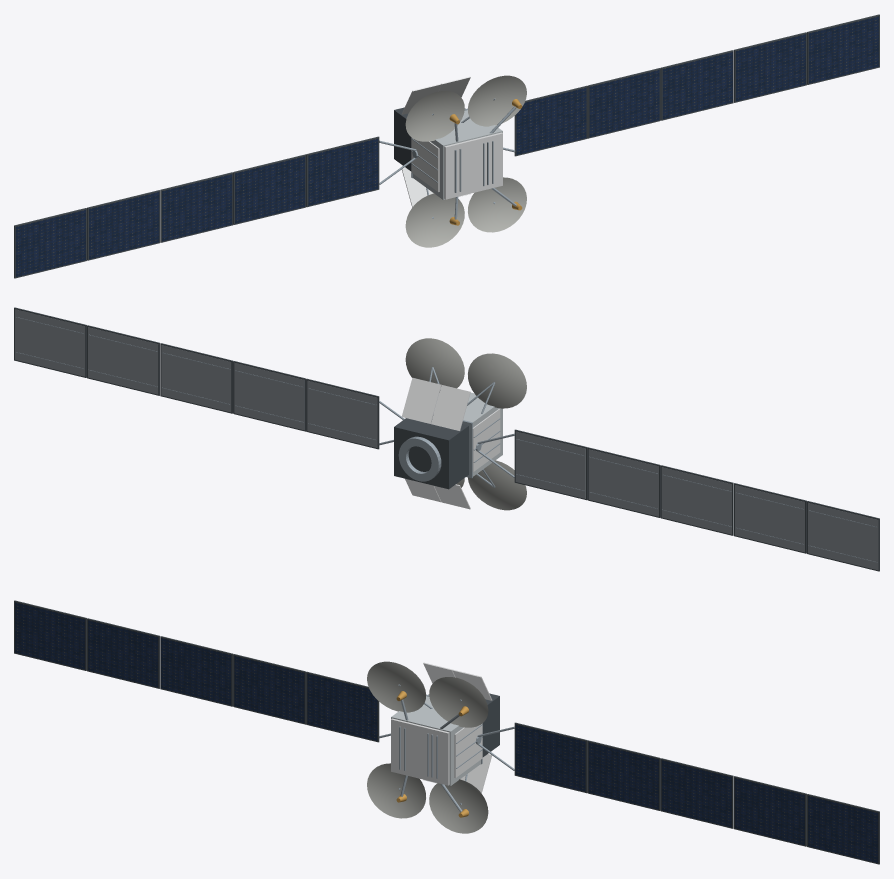
Rendered from boeing-702-galaxy-3c.glb.
3 renders of one model, top to bottom at view 1: azimuth 30°, elevation 25°; view 2: azimuth 150°, elevation 25°; view 3: azimuth 330°, elevation 25°, orthographic.
Visible parts, largest first — view 1: Solar cell panel (×10), Communications reflector (×4), Earth-facing deck, Payload module, Solar panel frame (×2), Radiator face, Service module; view 2: Rear array substrate (×10), Communications reflector (×3), Service module, Deployed radiator leaf (×3), Solar panel frame (×3), Radiator face, Launch adapter ring, Payload module; view 3: Solar cell panel (×10), Communications reflector (×4), Earth-facing deck, Payload module, Solar panel frame (×2), Radiator face, Service module.
Part boxes in pixels (box(x1,y1,x2,y2)): Solar cell panel (×10): box(15, 16, 878, 277); Communications reflector (×4): box(405, 75, 526, 247); Earth-facing deck: box(444, 132, 502, 199); Payload module: box(413, 110, 502, 199); Solar panel frame (×2): box(306, 68, 660, 207); Radiator face: box(411, 137, 439, 191); Service module: box(394, 107, 465, 171); Rear array substrate (×10): box(15, 309, 878, 570); Communications reflector (×3): box(405, 338, 526, 510); Service module: box(394, 418, 468, 489); Deployed radiator leaf (×3): box(401, 377, 470, 509); Solar panel frame (×3): box(160, 343, 379, 449); Radiator face: box(472, 408, 500, 471); Launch adapter ring: box(398, 436, 441, 481); Payload module: box(434, 392, 502, 476); Solar cell panel (×10): box(15, 602, 878, 863); Communications reflector (×4): box(367, 661, 488, 833); Earth-facing deck: box(391, 718, 449, 785); Payload module: box(391, 696, 480, 785); Solar panel frame (×2): box(233, 654, 587, 793); Radiator face: box(454, 723, 482, 777); Service module: box(428, 693, 499, 757).
Bounding box in the file's own units: 47.76 × 8.17 × 5.56.
8 materials, 1 textured.
